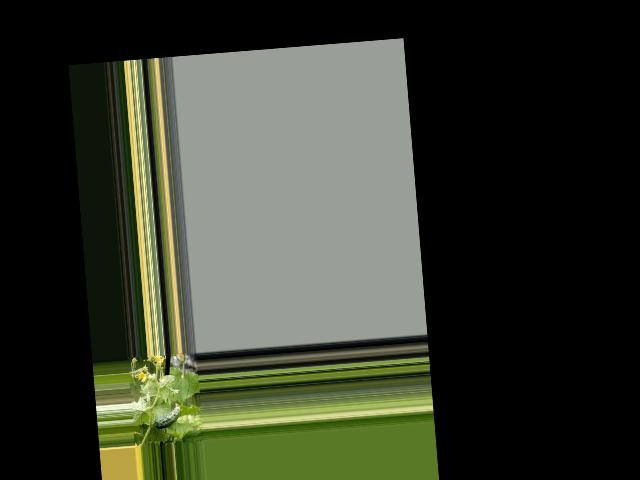cucumber: (151, 402, 182, 429)
